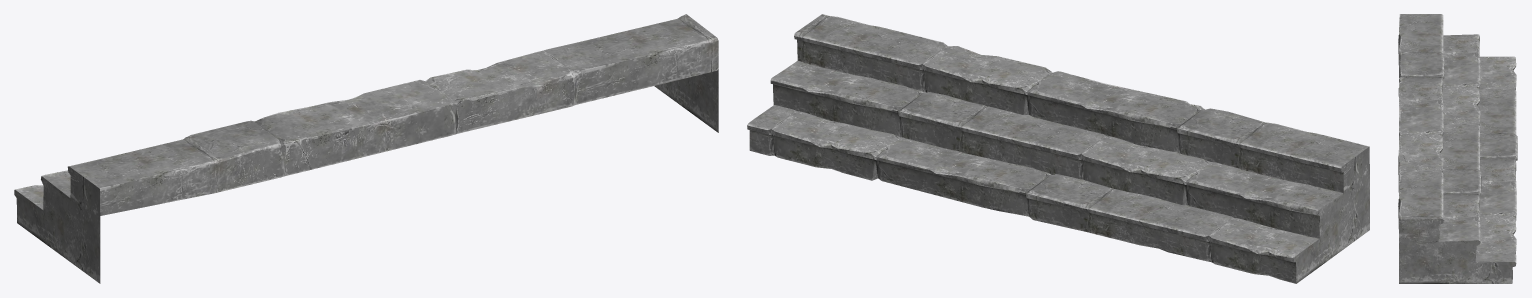
The picture shows the model from 3 angles, left to right: view 1: azimuth 30°, elevation 25°; view 2: azimuth 150°, elevation 25°; view 3: azimuth 270°, elevation 25°; orthographic projection. The views are drawn at different scales.
Visible parts, largest first — view 1: SM_Steps03_v1_LOD0; view 2: SM_Steps03_v1_LOD0; view 3: SM_Steps03_v1_LOD0.
Boxes of the visible parts, <box> form: SM_Steps03_v1_LOD0: <box>14,14,718,283</box>; SM_Steps03_v1_LOD0: <box>747,14,1369,283</box>; SM_Steps03_v1_LOD0: <box>1398,14,1517,283</box>.
Bounding box in the file's own units: 6 × 0.8976 × 1.48.
1 material, 1 textured.
